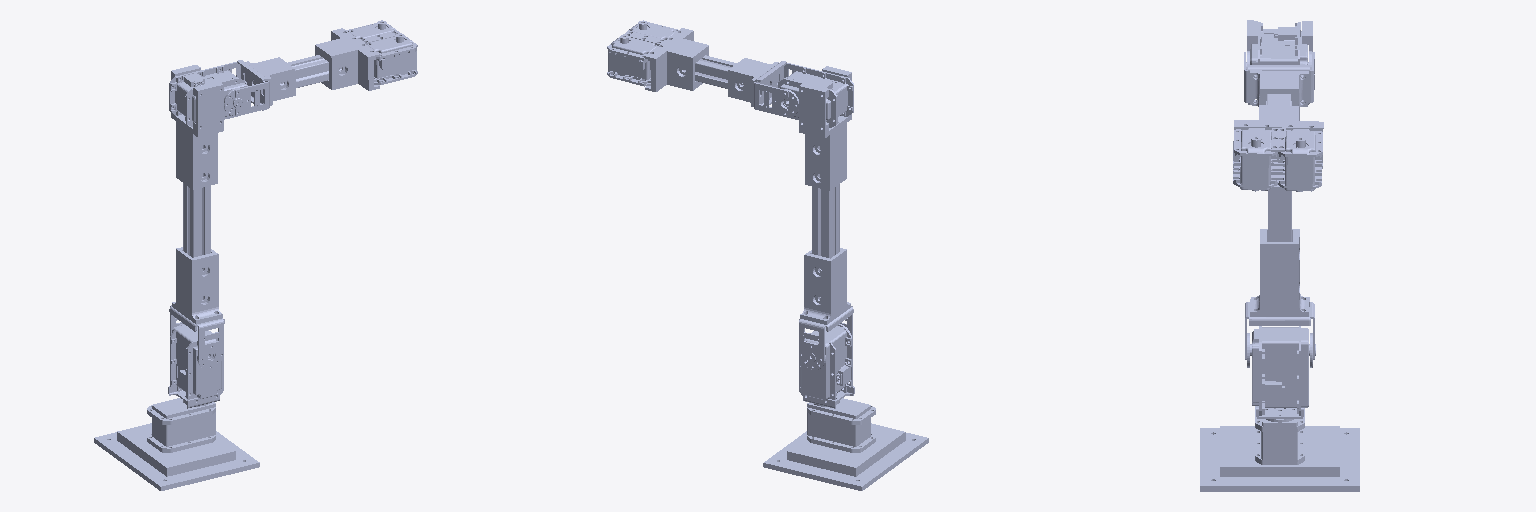
URDF robot description (arm):
<?xml version="1.0" encoding="utf-8"?>
<!-- This URDF was automatically created by SolidWorks to URDF Exporter! Originally created by [author] ([email redacted]) 
     Commit Version: 1.6.0-1-g15f4949  Build Version: 1.6.7594.29634
    For more information, please see http://wiki.ros.org/sw_urdf_exporter -->
<robot 
  name="arm">
<link
  name="arm_base_link">
  <inertial>
    <origin
      xyz="-0.03212282198 -0.42012512735 0.42806654755"
      rpy="0 0 0" />
    <mass
      value="0.186163368805018" />
    <inertia
      ixx="0.00012911430163569"
      ixy="6.51866525966857E-10"
      ixz="4.04912675311546E-10"
      iyy="0.000270182092432814"
      iyz="3.35442702197418E-07"
      izz="0.000167882757488322" />
  </inertial>
  <visual>
    <origin
      xyz="0.03237 -0.0645 0.375"
      rpy="0 0 -1.5708" />
    <geometry>
      <mesh
        filename="package://skuba_edu_description/meshes/arm/arm_base_link.STL" />
    </geometry>
    <material
      name="">
      <color
        rgba="0.792156862745098 0.819607843137255 0.933333333333333 1" />
    </material>
  </visual>
  <collision>
    <origin
      xyz="0.03237 -0.0645 0.375"
      rpy="0 0 0" />
    <geometry>
      <mesh
        filename="package://skuba_edu_description/meshes/arm/arm_base_link.STL" />
    </geometry>
  </collision>
</link>
<link
  name="arm_link_1">
  <inertial>
    <origin
      xyz="6.15184211939929E-05 -0.0325958294491363 -0.000169492133248482"
      rpy="0 0 0" />
    <mass
      value="0.0863559618404855" />
    <inertia
      ixx="3.18738615082819E-05"
      ixy="-1.73028253968493E-07"
      ixz="-2.12738742921425E-09"
      iyy="2.21589667428724E-05"
      iyz="9.73665351283212E-09"
      izz="3.96350749701624E-05" />
  </inertial>
  <visual>
    <origin
      xyz="0 0 0.073"
      rpy="1.5708 0 1.5708" />
    <geometry>
      <mesh
        filename="package://skuba_edu_description/meshes/arm/arm_link_1.STL" />
    </geometry>
    <material
      name="">
      <color
        rgba="0.792156862745098 0.819607843137255 0.933333333333333 1" />
    </material>
  </visual>
  <collision>
    <origin
      xyz="0 0 0"
      rpy="0 0 0" />
    <geometry>
      <mesh
        filename="package://skuba_edu_description/meshes/arm/arm_link_1.STL" />
    </geometry>
  </collision>
</link>
<joint
  name="arm_base_link_link_1"
  type="revolute">
  <origin
    xyz="0 0 0.055"
    rpy="0 0 0" />
  <parent
    link="arm_base_link" />
  <child
    link="arm_link_1" />
  <axis
    xyz="0 0 1" />
  <limit
    lower="-3.14"
    upper="3.14"
    effort="0"
    velocity="0" />
</joint>
<link
  name="arm_link_2">
  <inertial>
    <origin
      xyz="0.000203280213561932 -0.193086411594665 0.00531640363050518"
      rpy="0 0 0" />
    <mass
      value="0.203789418700687" />
    <inertia
      ixx="0.000190742524201691"
      ixy="3.60636681187183E-09"
      ixz="-1.81324565296997E-07"
      iyy="6.95147446909765E-05"
      iyz="-2.5389805639446E-09"
      izz="0.000191867605418963" />
  </inertial>
  <visual>
    <origin
      xyz="0 0 0"
      rpy="0 0 0" />
    <geometry>
      <mesh
        filename="package://skuba_edu_description/meshes/arm/arm_link_2.STL" />
    </geometry>
    <material
      name="">
      <color
        rgba="0.792156862745098 0.819607843137255 0.933333333333333 1" />
    </material>
  </visual>
  <collision>
    <origin
      xyz="0 0 0"
      rpy="0 0 0" />
    <geometry>
      <mesh
        filename="package://skuba_edu_description/meshes/arm/arm_link_2.STL" />
    </geometry>
  </collision>
</link>
<joint
  name="arm_link_1_arm_link_2"
  type="revolute">
  <origin
    xyz="0 0 0.058"
    rpy="-1.5708 0 -1.5708" />
  <parent
    link="arm_link_1" />
  <child
    link="arm_link_2" />
  <axis
    xyz="-1 0 0" />
  <limit
    lower="-1.97728351"
    upper="1.96"
    effort="0"
    velocity="0" />
</joint>
<link
  name="arm_link_3">
  <inertial>
    <origin
      xyz="0.000251076986040322 -0.134949597462582 7.19713697072465E-05"
      rpy="0 0 0" />
    <mass
      value="0.172390710019942" />
    <inertia
      ixx="5.70915688480554E-05"
      ixy="8.63831723211208E-09"
      ixz="2.70858587460573E-08"
      iyy="4.10041759288329E-05"
      iyz="3.6456768903629E-07"
      izz="6.06950558357656E-05" />
  </inertial>
  <visual>
    <origin
      xyz="0 0 0"
      rpy="0 0 0" />
    <geometry>
      <mesh
        filename="package://skuba_edu_description/meshes/arm/arm_link_3.STL" />
    </geometry>
    <material
      name="">
      <color
        rgba="0.792156862745098 0.819607843137255 0.933333333333333 1" />
    </material>
  </visual>
  <collision>
    <origin
      xyz="0 0 0"
      rpy="0 0 0" />
    <geometry>
      <mesh
        filename="package://skuba_edu_description/meshes/arm/arm_link_3.STL" />
    </geometry>
  </collision>
</link>
<joint
  name="arm_link_2_arm_link_3"
  type="revolute">
  <origin
    xyz="0.0001861 -0.26323 0.029054"
    rpy="-1.5637 0.006405 0" />
  <parent
    link="arm_link_2" />
  <child
    link="arm_link_3" />
  <axis
    xyz="1 0 0" />
  <limit
    lower="-1.495"
    upper="1.7150"
    effort="0"
    velocity="0" />
</joint>

<link name="arm_link_4"></link>
<joint
  name="arm_link_3_arm_link_4"
  type="fixed">
  <origin
    xyz="0 -0.19852 0"
    rpy="3.1416 0 -1.5708" />
  <parent
    link="arm_link_3" />
  <child
    link="arm_link_4" />
  <axis
    xyz="0 0 0" />
</joint>
</robot>

--- Render facts (derived) ---
3 views of the same robot in one strip: view 1: azimuth 30°, elevation 25°; view 2: azimuth 150°, elevation 25°; view 3: azimuth 270°, elevation 25° (orthographic).
Model arm with 5 links and 4 joints (3 revolute, 1 fixed), rooted at arm_base_link, posed all joints at 0.
Links seen in each view (by area): view 1: arm_link_2, arm_link_3, arm_base_link, arm_link_1; view 2: arm_link_2, arm_link_3, arm_base_link, arm_link_1; view 3: arm_base_link, arm_link_3, arm_link_2, arm_link_1.
Link boxes in pixels (left/top/right/bottom): arm_link_2: left=169, top=65, right=247, bottom=369; arm_link_3: left=223, top=20, right=417, bottom=115; arm_base_link: left=94, top=398, right=259, bottom=490; arm_link_1: left=168, top=325, right=223, bottom=408; arm_link_2: left=778, top=66, right=853, bottom=369; arm_link_3: left=607, top=20, right=800, bottom=116; arm_base_link: left=763, top=398, right=928, bottom=490; arm_link_1: left=799, top=326, right=854, bottom=408; arm_base_link: left=1200, top=406, right=1359, bottom=491; arm_link_3: left=1233, top=51, right=1323, bottom=191; arm_link_2: left=1245, top=20, right=1315, bottom=367; arm_link_1: left=1252, top=326, right=1308, bottom=418.
Size in the robot's own frame: 0.305 by 0.129 by 0.3981 metres.
4 mesh visuals loaded from 4 distinct referenced files (4 binary STL).